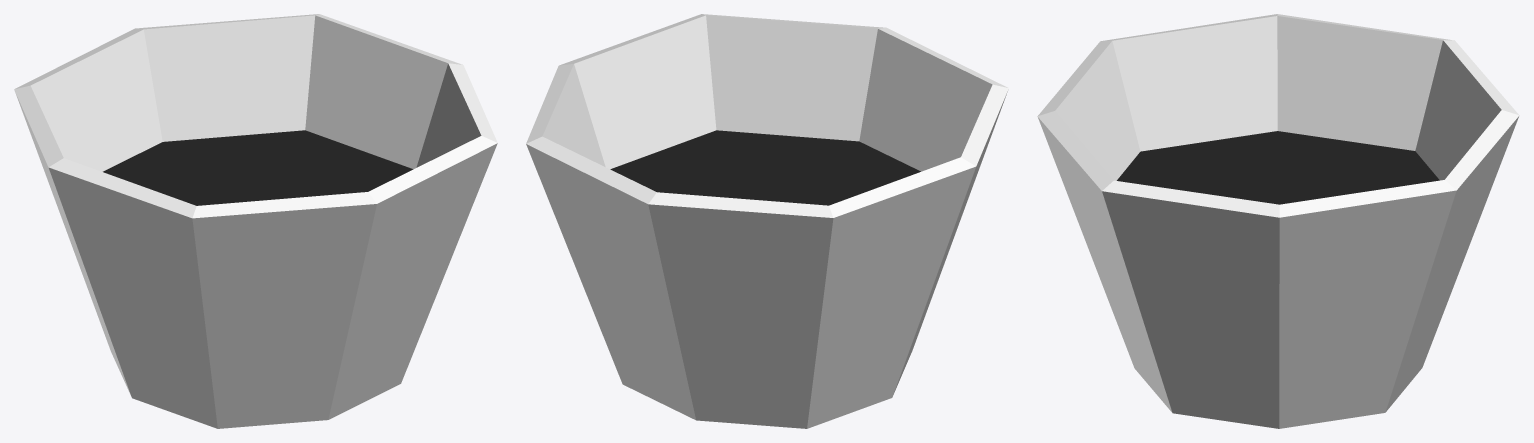
Rendered from Kitchen_Cup.fbx.
The picture shows the model from 3 angles, left to right: view 1: azimuth 30°, elevation 25°; view 2: azimuth 150°, elevation 25°; view 3: azimuth 270°, elevation 25°; orthographic projection.
Parts seen in each view (by area): view 1: Kitchen_Cup; view 2: Kitchen_Cup; view 3: Kitchen_Cup.
Part boxes in pixels (bbox=[...]): Kitchen_Cup: bbox=[14, 14, 497, 428]; Kitchen_Cup: bbox=[526, 14, 1008, 428]; Kitchen_Cup: bbox=[1037, 14, 1519, 428].
Bounding box in the file's own units: 17.66 × 10.42 × 17.67.
